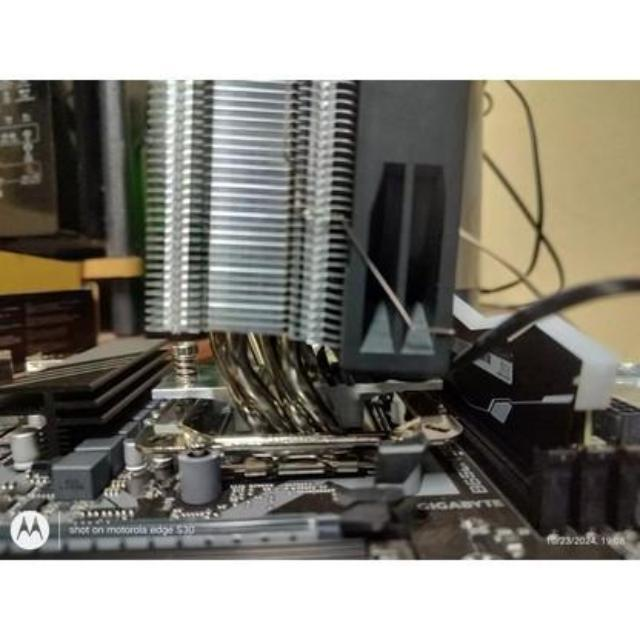CPU_Fan: (137, 60, 465, 469)
